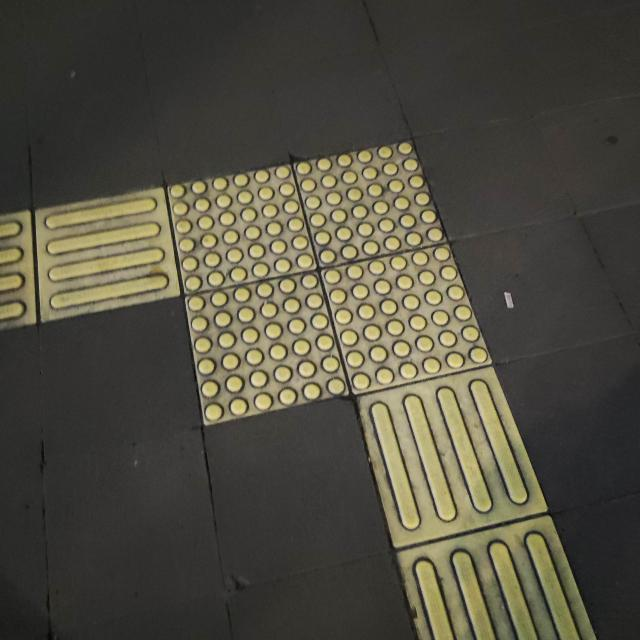kiri: (17, 126, 546, 478)
